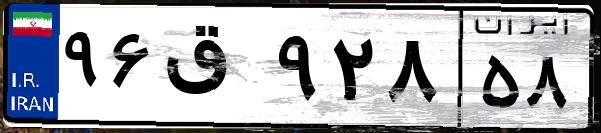2: (330, 28, 385, 110)
5: (475, 38, 525, 113)
6: (110, 28, 158, 98)
8: (385, 28, 445, 110), (525, 38, 570, 115)
9: (270, 28, 330, 110), (57, 26, 110, 100)
ق: (158, 20, 270, 120)
